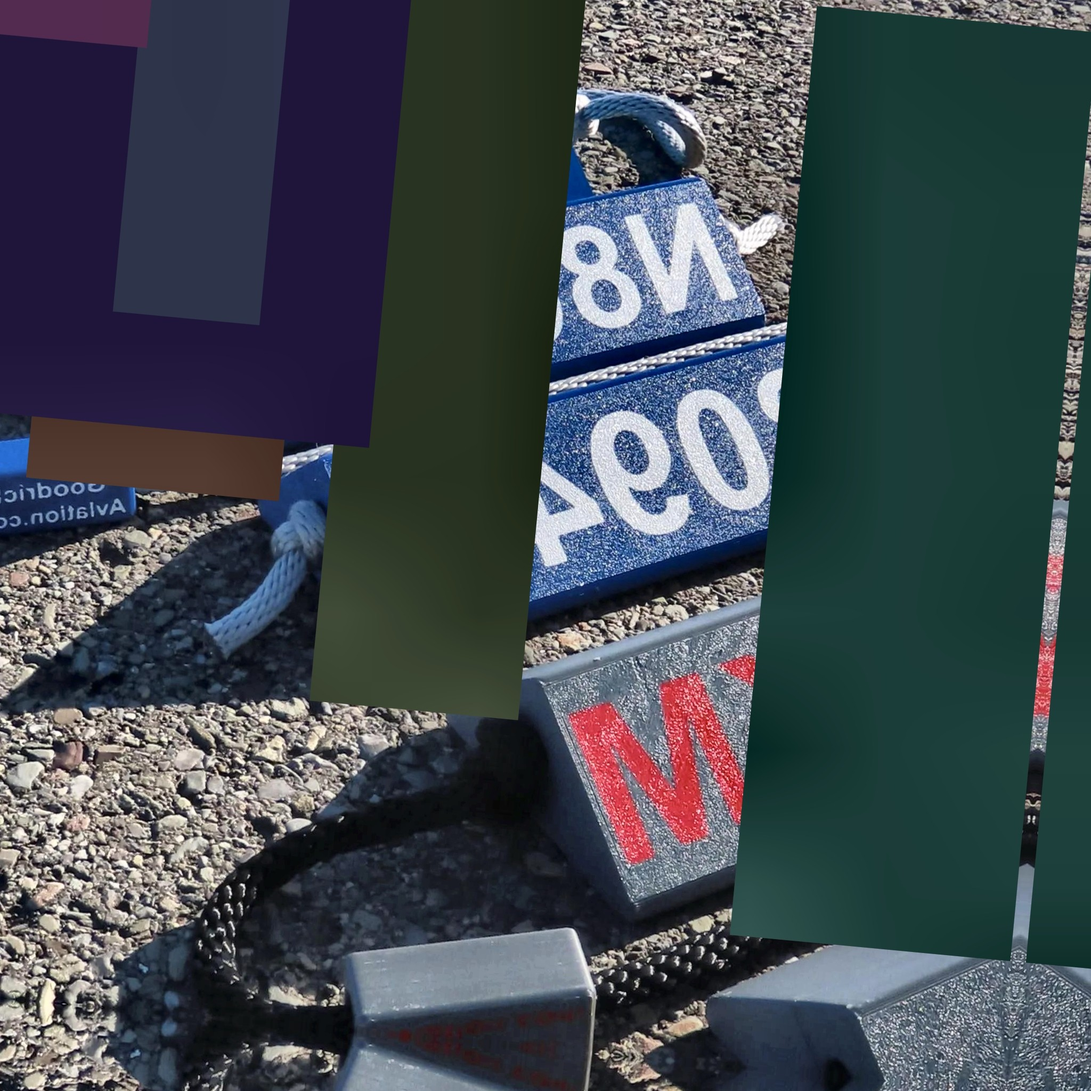chock: (238, 240, 1016, 723), (424, 442, 1058, 969), (97, 124, 782, 518), (0, 26, 604, 372), (0, 0, 460, 237), (700, 833, 1026, 1091), (0, 0, 346, 122)
